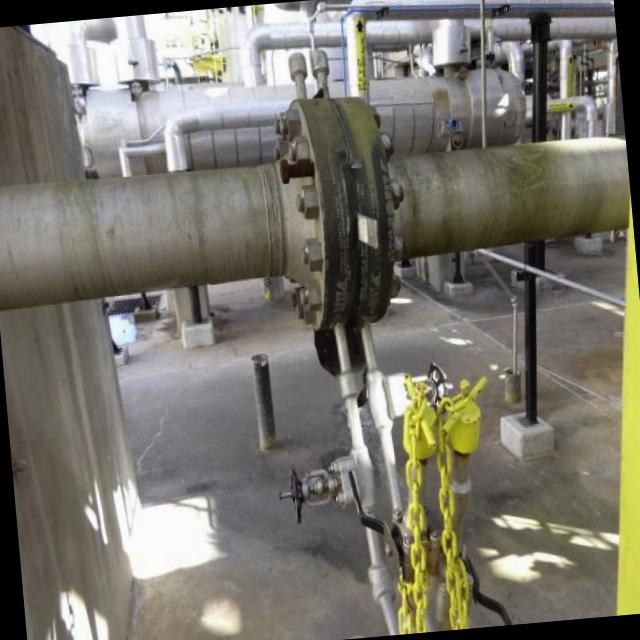gas: (0, 102, 637, 329)
